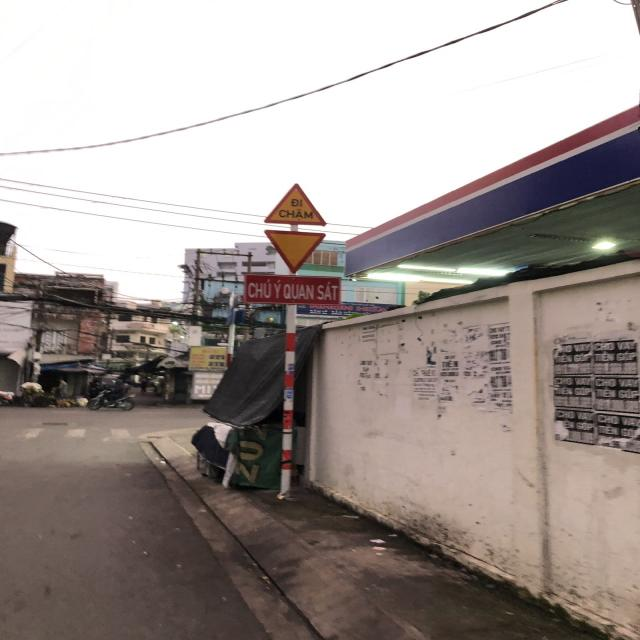Bien bao di cham: (260, 180, 330, 228)
Bien bao giao nhau voi duong uu tien: (255, 227, 327, 275)
